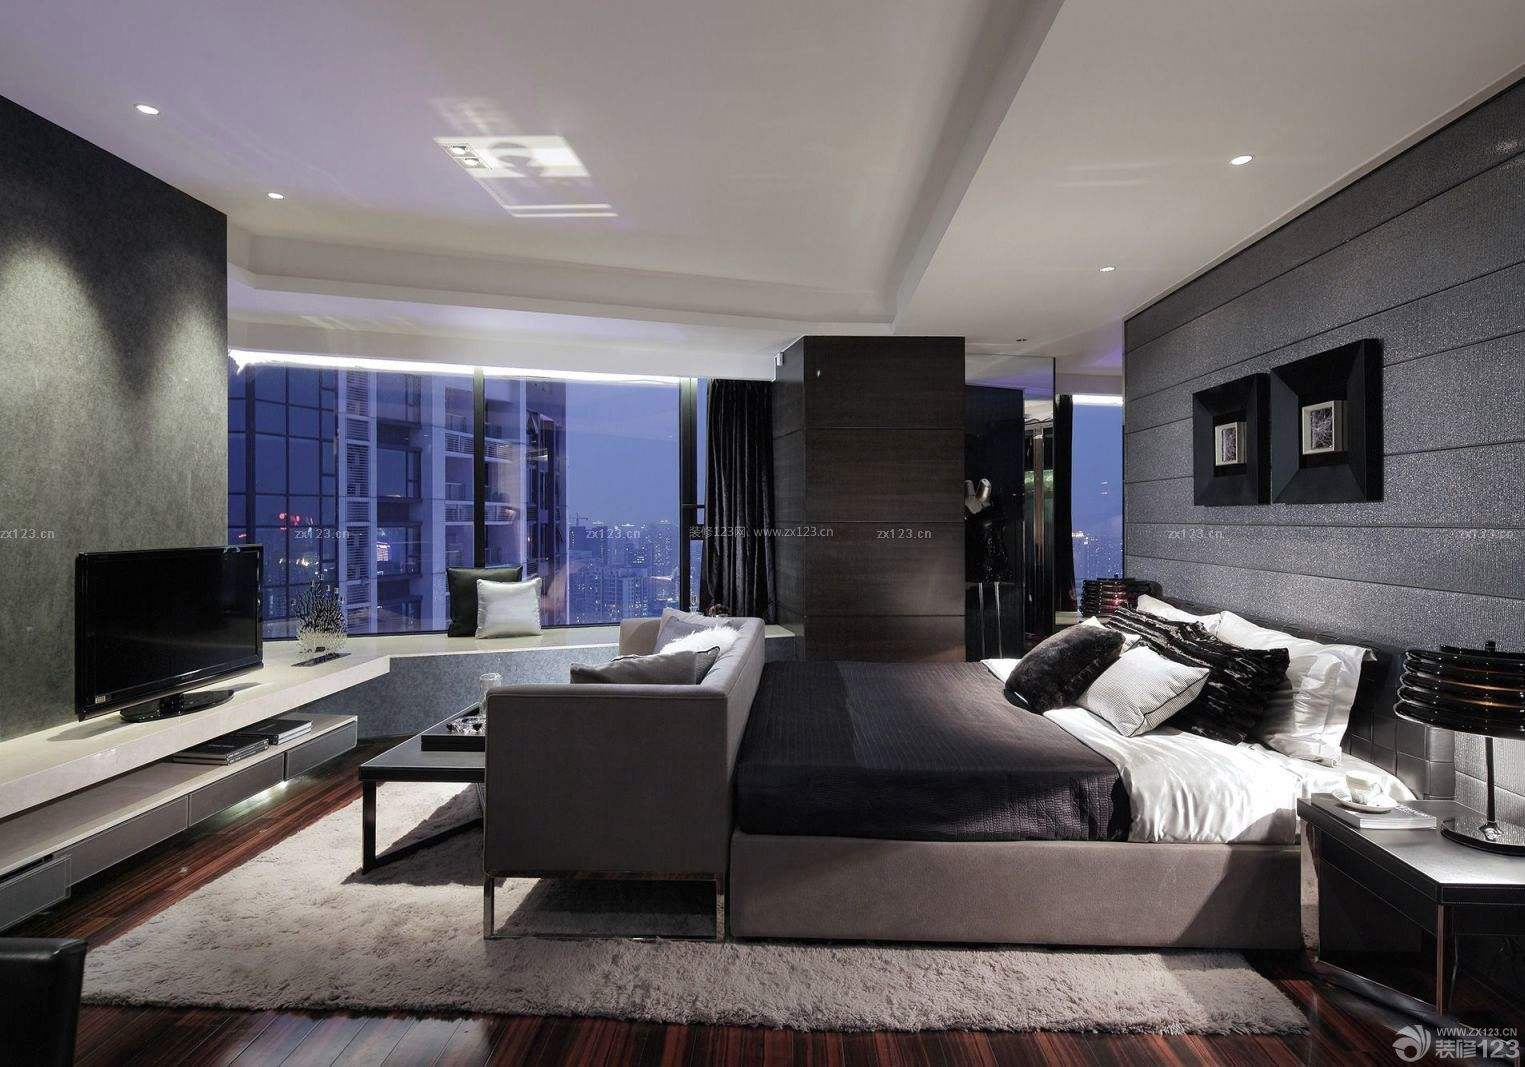床: (743, 668, 1431, 952)
枕头: (1004, 601, 1363, 752), (459, 573, 550, 637)
灯: (1399, 643, 1520, 842), (130, 97, 170, 124), (1228, 149, 1267, 176), (255, 183, 294, 207), (1094, 256, 1130, 282)
